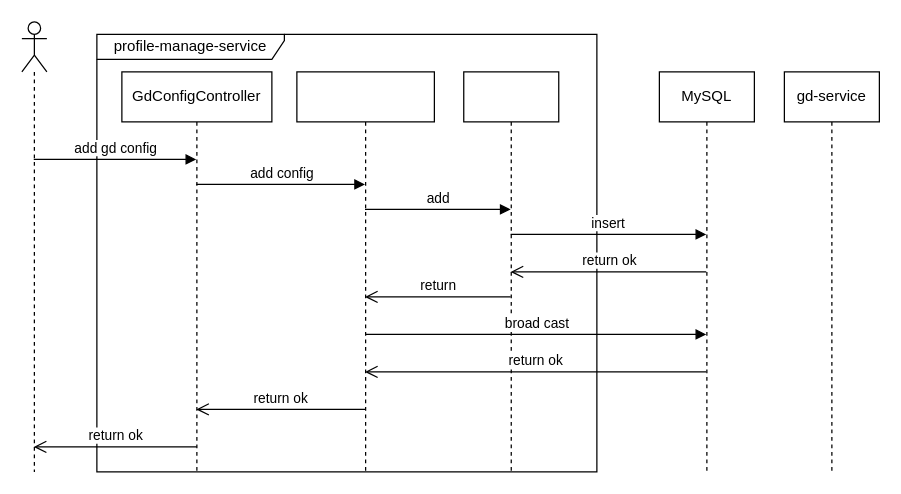
This 901x494 diagram has some shape labels left out. The shapes that lost their labels are listed below. From the top down, each one's box as (x1, y1, x2, y2) in pixels, then its label:
(296, 71, 434, 472): GdConfigService
(462, 71, 559, 472): Data Driver
